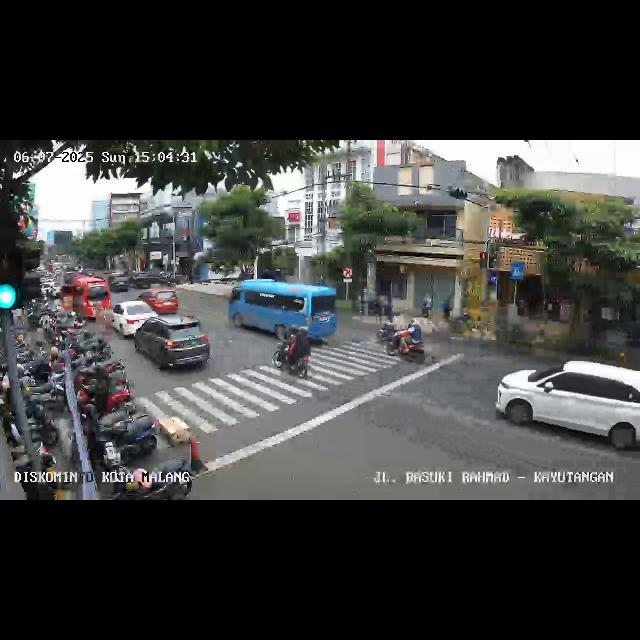bus: (228, 278, 334, 342)
car: (496, 358, 640, 458), (133, 318, 213, 374), (58, 276, 109, 322), (104, 298, 158, 336), (138, 288, 180, 316), (108, 272, 132, 294)
motorcycle: (272, 324, 314, 376), (384, 316, 428, 364)
